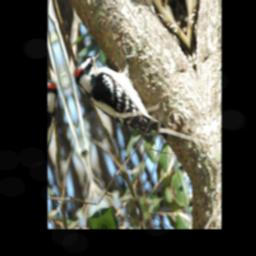Woodpecker: (71, 31, 161, 163)
